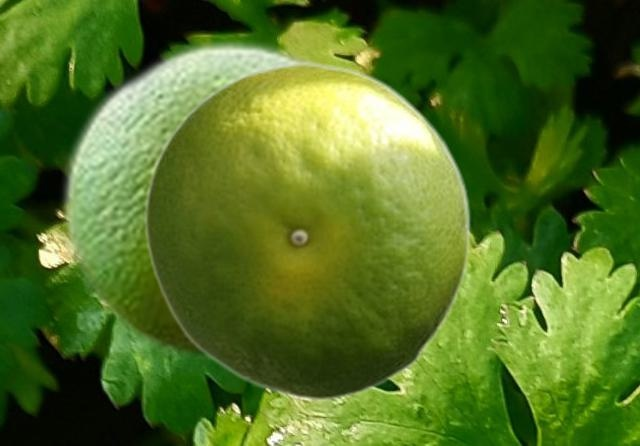dalandan: (143, 60, 470, 401), (58, 35, 321, 358)
